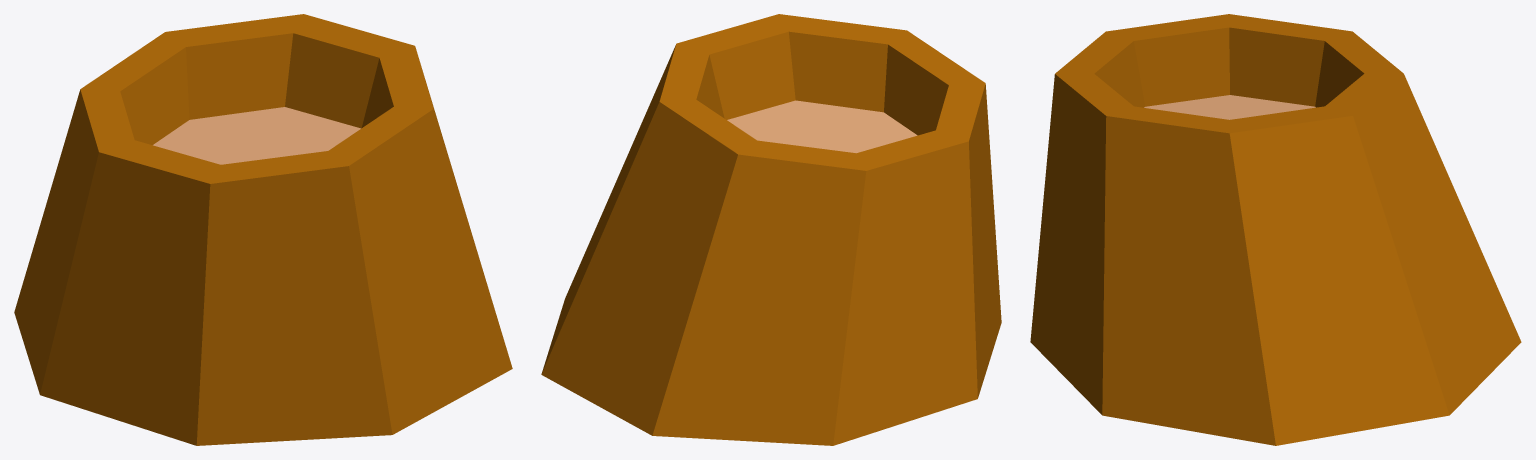
File: GEO_tree_9.fbx
3 renders of one model, left to right at view 1: azimuth 30°, elevation 25°; view 2: azimuth 150°, elevation 25°; view 3: azimuth 270°, elevation 25°, orthographic. The views are drawn at different scales.
Visible parts, largest first — view 1: GEO_tree_4; view 2: GEO_tree_4; view 3: GEO_tree_4.
Part boxes in pixels (box(x1,y1,x2,y2)): GEO_tree_4: box(14, 14, 512, 445); GEO_tree_4: box(541, 14, 1001, 445); GEO_tree_4: box(1030, 14, 1521, 445).
Bounding box in the file's own units: 69.56 × 41.88 × 69.56.
